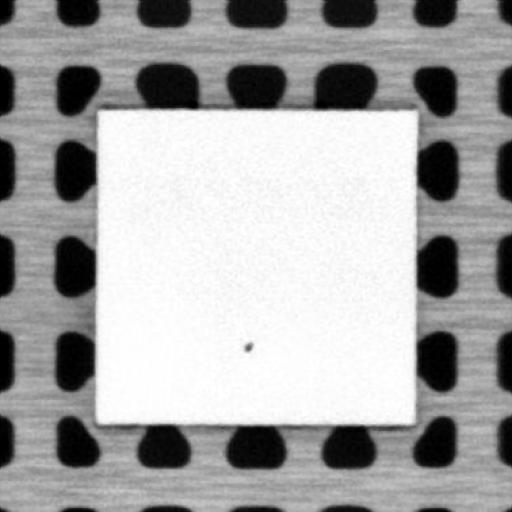DIE_INK: (238, 336, 254, 352)
